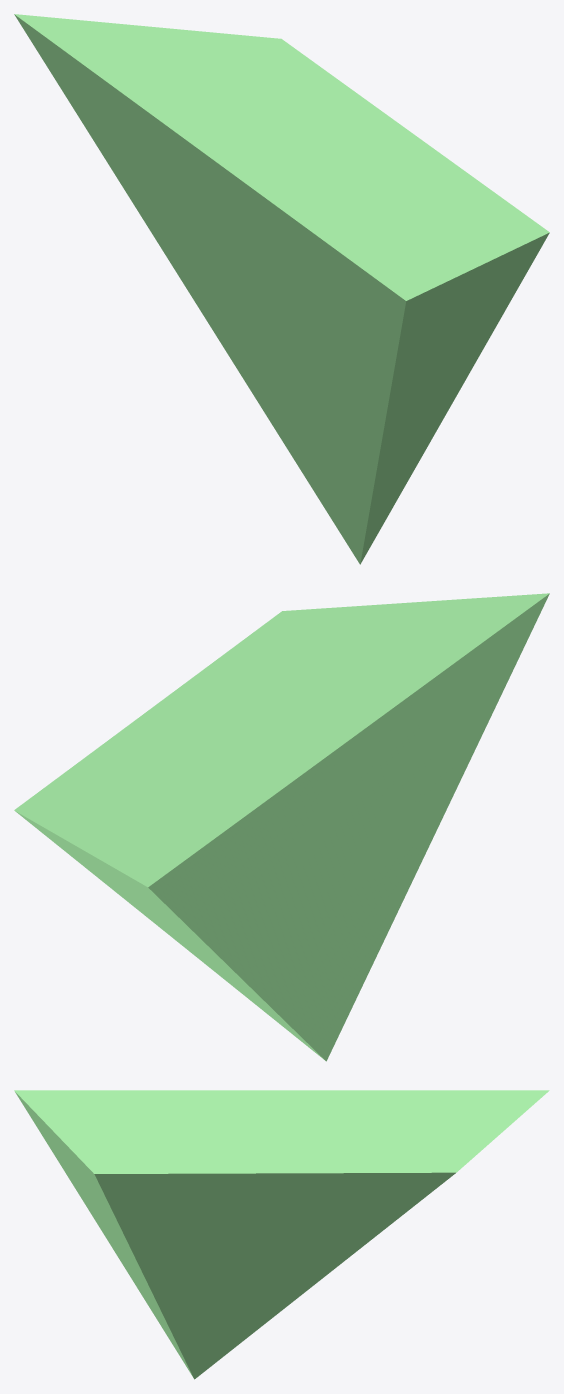
Rendered from UMIRobot_UMIRobot_link_2_convex_coll_34.dae.
3 renders of one model, top to bottom at view 1: azimuth 30°, elevation 25°; view 2: azimuth 150°, elevation 25°; view 3: azimuth 270°, elevation 25°, orthographic. The views are drawn at different scales.
Parts seen in each view (by area): view 1: node; view 2: node; view 3: node.
Boxes of the visible parts, left/top/right/bottom form: node: left=14, top=14, right=549, bottom=564; node: left=14, top=593, right=549, bottom=1061; node: left=14, top=1090, right=549, bottom=1379.
Size of the model in its own units: 0.00894 by 0.0161 by 0.03.
